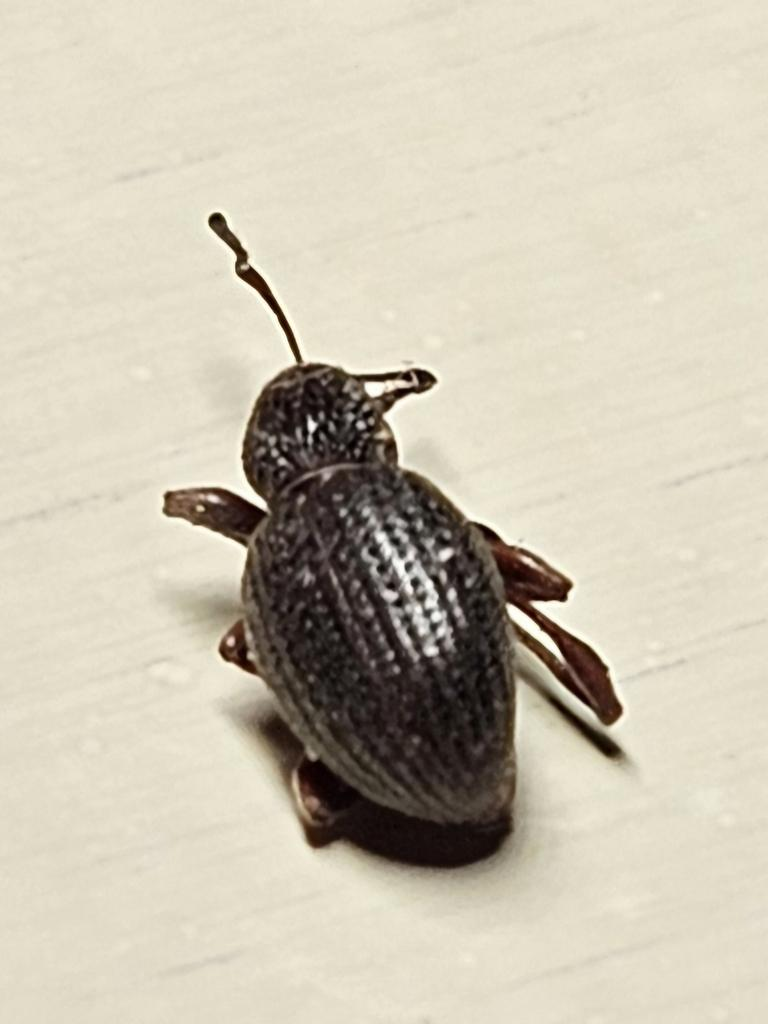weevils: (71, 179, 713, 943)
